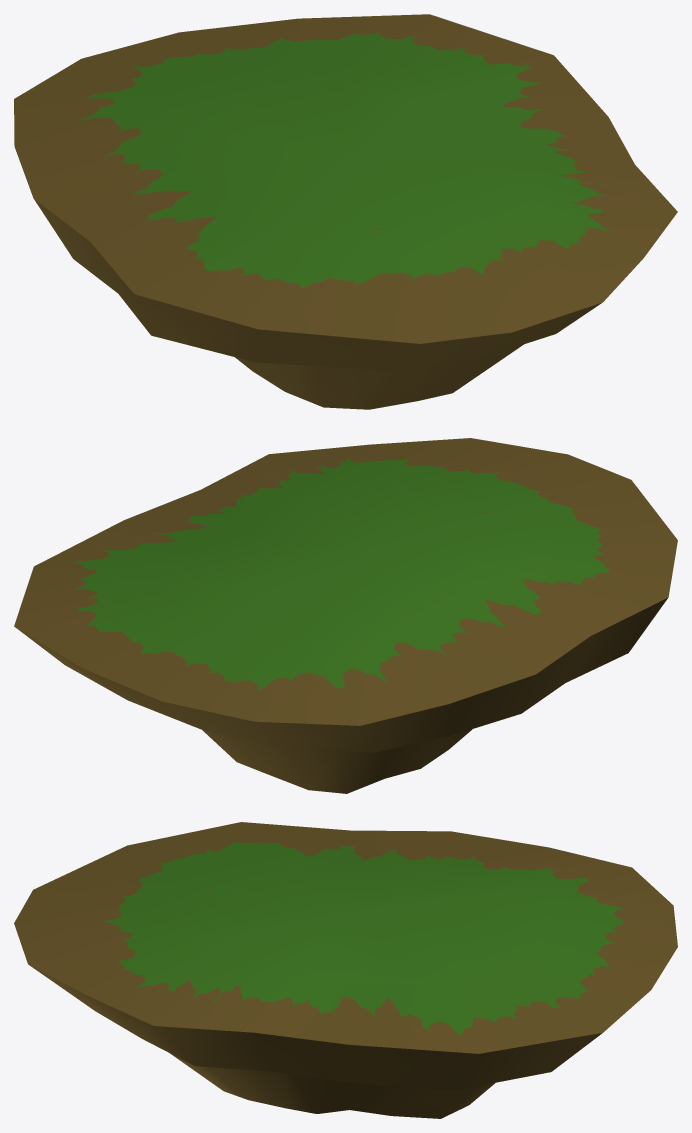
Rendered from SmallIsland_1.FBX.
3 views of the same model, one above another, from view 1: azimuth 30°, elevation 25°; view 2: azimuth 150°, elevation 25°; view 3: azimuth 270°, elevation 25° (orthographic). The views are drawn at different scales.
Visible parts, largest first — view 1: SmallIsland003; view 2: SmallIsland003; view 3: SmallIsland003.
Boxes of the visible parts, x1=… form: SmallIsland003: x1=14, y1=14, x2=677, y2=409; SmallIsland003: x1=14, y1=438, x2=677, y2=793; SmallIsland003: x1=14, y1=822, x2=677, y2=1118.
Size of the model in its own units: 65.04 by 23.55 by 78.68.
1 material, 1 textured.
